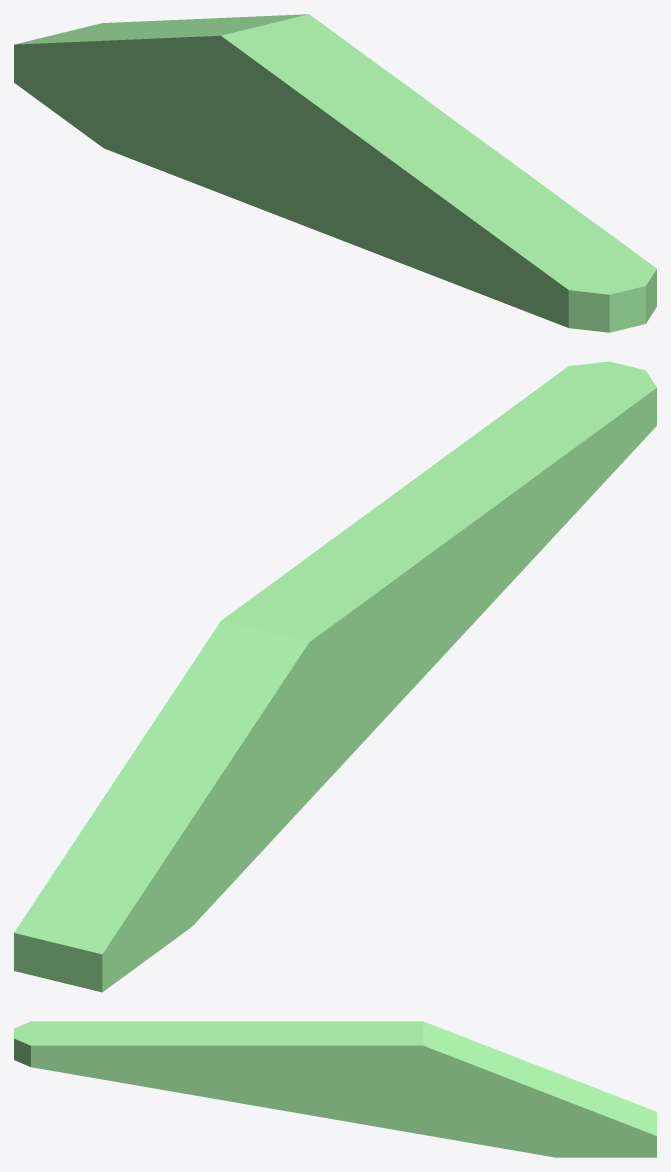
File: dvkr_robot_Lp1_respondable_PSM1_coll_4.dae
3 renders of one model, top to bottom at view 1: azimuth 30°, elevation 25°; view 2: azimuth 150°, elevation 25°; view 3: azimuth 270°, elevation 25°, orthographic. The views are drawn at different scales.
Parts seen in each view (by area): view 1: Node_0000023515114AE0; view 2: Node_0000023515114AE0; view 3: Node_0000023515114AE0.
Part boxes in pixels (left/top/right/bottom): Node_0000023515114AE0: left=14, top=14, right=656, bottom=332; Node_0000023515114AE0: left=14, top=361, right=656, bottom=992; Node_0000023515114AE0: left=14, top=1021, right=656, bottom=1157.
Size of the model in its own units: 0.0171 by 0.0365 by 0.19.
